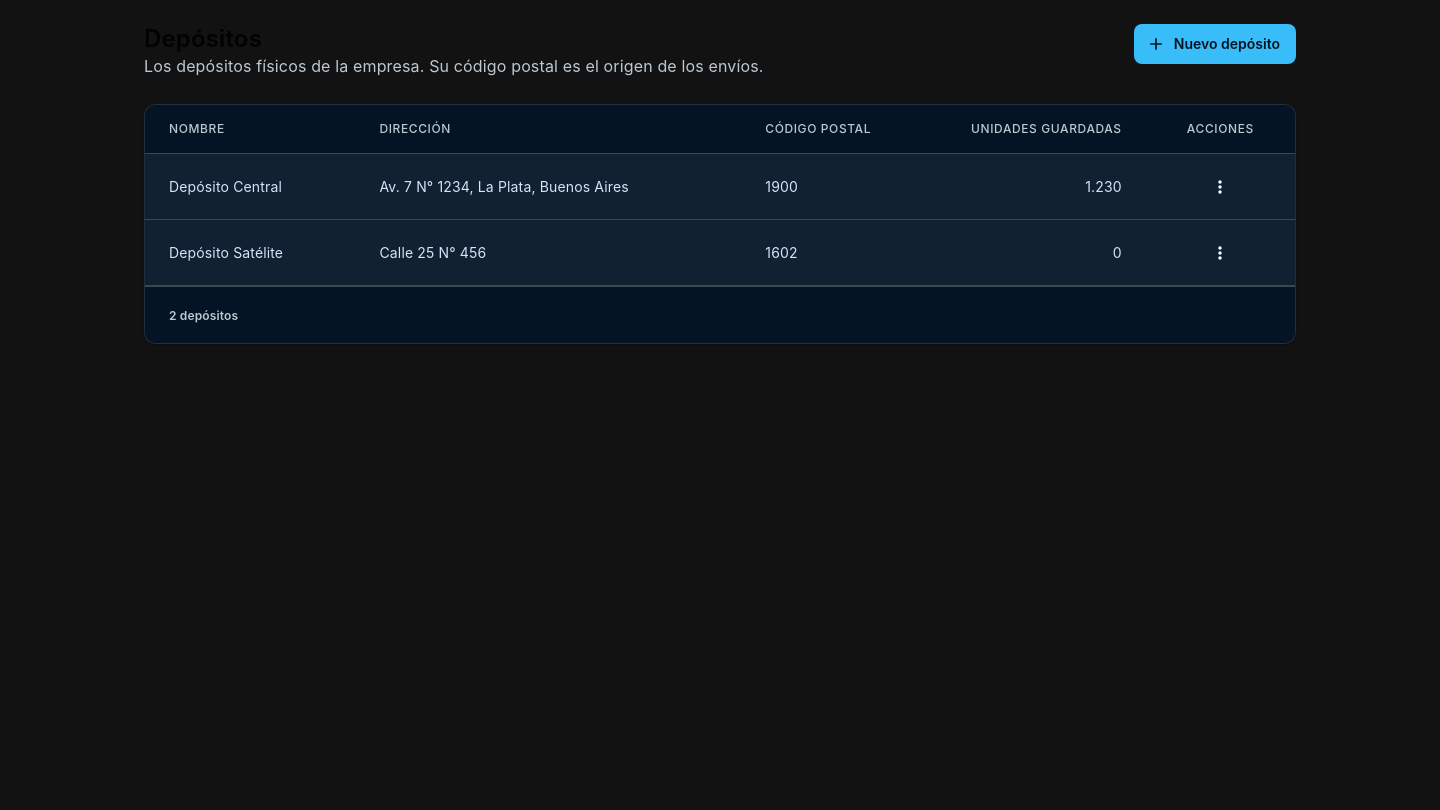
Scenario: WarehousesPage › opens the creation form
Click the button "Nuevo depósito": (1215, 44) [1134, 24, 1296, 64]
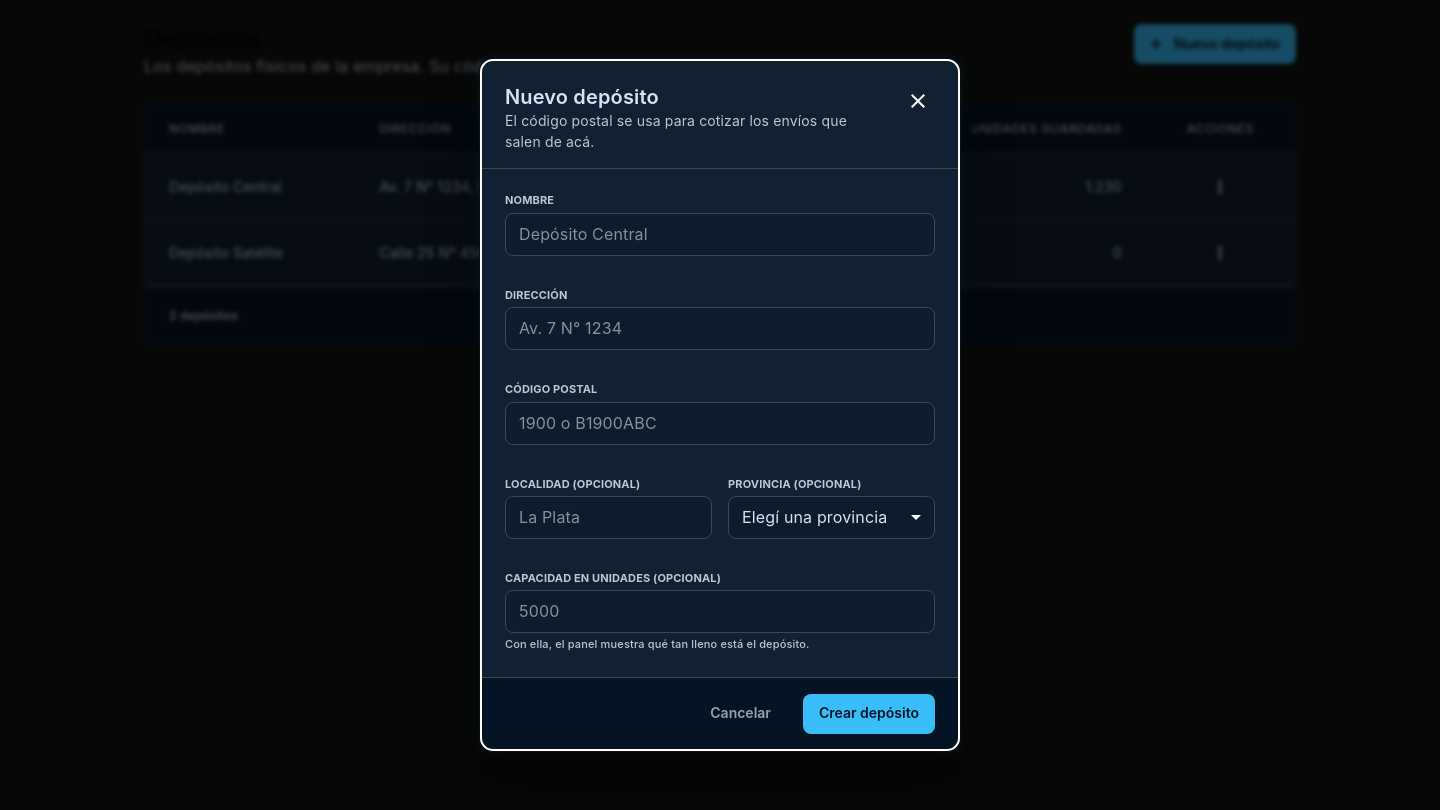
expect the button "Crear depósito" is shown: met, box [803, 694, 935, 734]
